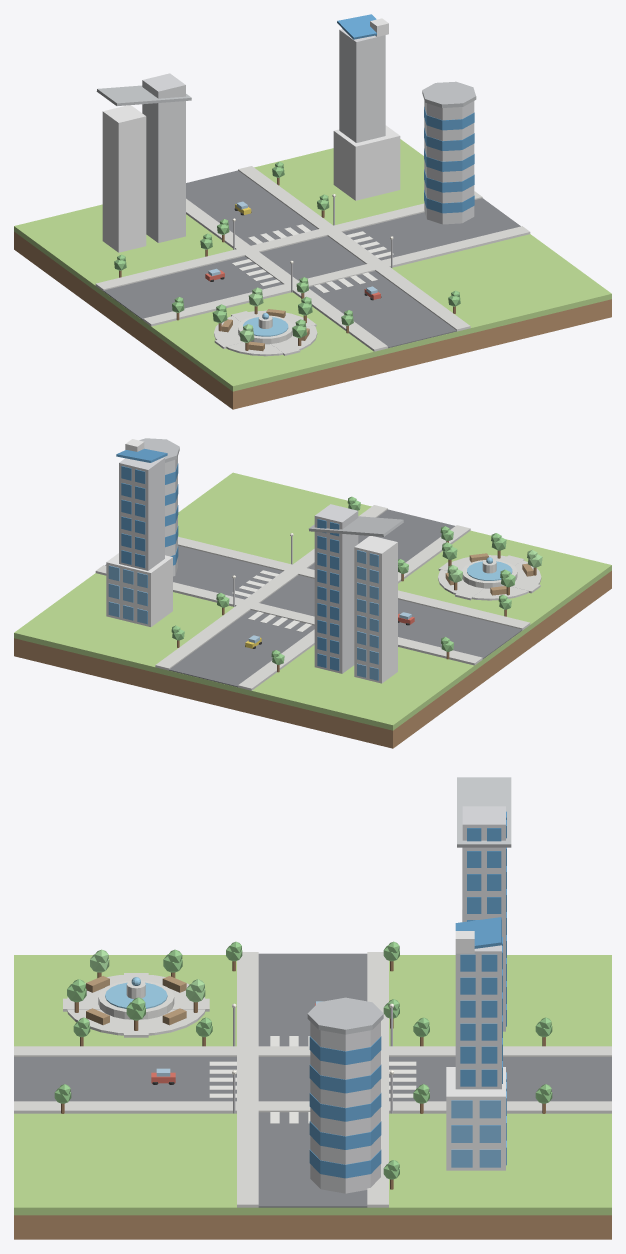
The model's file is Building.fbx.
3 renders of one model, top to bottom at view 1: azimuth 30°, elevation 25°; view 2: azimuth 150°, elevation 25°; view 3: azimuth 270°, elevation 25°, orthographic. The views are drawn at different scales.
Visible parts, largest first — view 1: Base_Grass, Road_V, Road_H, Base_Dirt, TwinB_Body, TwinA_Body, CoreShaft_Body, CoreBase_Body, RoundTower_Body, Sidewalk_H_B, Sidewalk_V_R, Sidewalk_H_T (+10 smaller); view 2: Base_Grass, Base_Dirt, Road_V, Road_H, TwinB_Body, TwinA_Body, CoreShaft_Body, CoreBase_Body, Sidewalk_V_R, Sidewalk_H_B, Sidewalk_H_T, Sidewalk_V_L (+7 smaller); view 3: Base_Grass, Road_V, Road_H, Base_Dirt, RoundTower_Body, Sidewalk_V_R, Sidewalk_H_B, Sidewalk_V_L, CoreShaft_Body, TwinB_Body, CoreBase_Body, Sidewalk_H_T (+12 smaller).
Part boxes in pixels (left/top/right/bottom): Base_Grass: left=14, top=139, right=611, bottom=391; Road_V: left=186, top=170, right=456, bottom=348; Road_H: left=103, top=198, right=520, bottom=320; Base_Dirt: left=14, top=232, right=611, bottom=409; TwinB_Body: left=142, top=73, right=185, bottom=242; TwinA_Body: left=102, top=105, right=146, bottom=252; CoreShaft_Body: left=339, top=29, right=385, bottom=142; CoreBase_Body: left=333, top=125, right=400, bottom=200; RoundTower_Body: left=424, top=101, right=474, bottom=224; Sidewalk_H_B: left=143, top=226, right=530, bottom=326; Sidewalk_V_R: left=238, top=166, right=470, bottom=331; Sidewalk_H_T: left=95, top=191, right=482, bottom=291; Base_Grass: left=14, top=472, right=611, bottom=730; Base_Dirt: left=14, top=571, right=611, bottom=748; Road_V: left=169, top=509, right=454, bottom=687; Road_H: left=105, top=545, right=522, bottom=659; TwinB_Body: left=314, top=504, right=358, bottom=673; TwinA_Body: left=354, top=536, right=397, bottom=683; CoreShaft_Body: left=119, top=457, right=164, bottom=570; CoreBase_Body: left=106, top=553, right=172, bottom=626; Sidewalk_V_R: left=155, top=505, right=387, bottom=670; Sidewalk_H_B: left=178, top=536, right=530, bottom=630; Sidewalk_H_T: left=95, top=565, right=482, bottom=665; Sidewalk_V_L: left=238, top=525, right=470, bottom=690; Base_Grass: left=14, top=955, right=611, bottom=1215; Road_V: left=14, top=1057, right=611, bottom=1101; Road_H: left=258, top=953, right=367, bottom=1207; Base_Dirt: left=14, top=1215, right=611, bottom=1239; RoundTower_Body: left=310, top=1022, right=380, bottom=1193; Sidewalk_V_R: left=14, top=1101, right=611, bottom=1113; Sidewalk_H_B: left=237, top=952, right=258, bottom=1207; Sidewalk_V_L: left=14, top=1046, right=611, bottom=1056; CoreShaft_Body: left=455, top=945, right=501, bottom=1089; TwinB_Body: left=462, top=806, right=505, bottom=1031; CoreBase_Body: left=446, top=1067, right=505, bottom=1170; Sidewalk_H_T: left=367, top=952, right=388, bottom=1207.
Size of the model in its own units: 2200 by 1056 by 2200.
